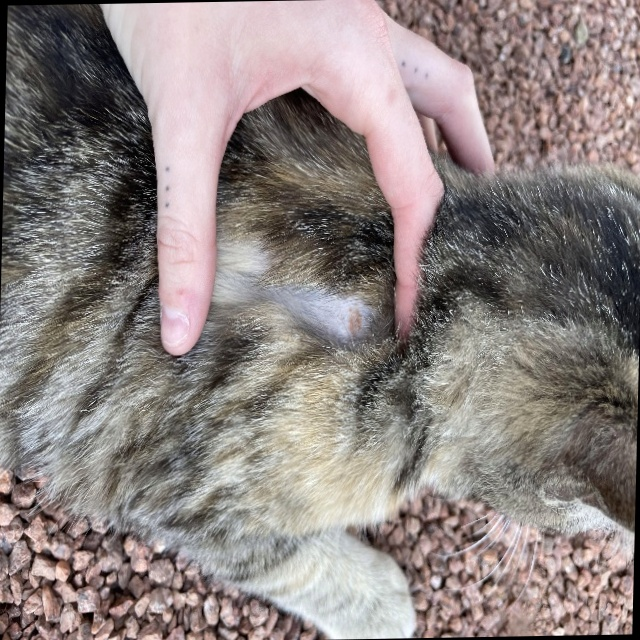hairloss: (206, 235, 394, 359)
